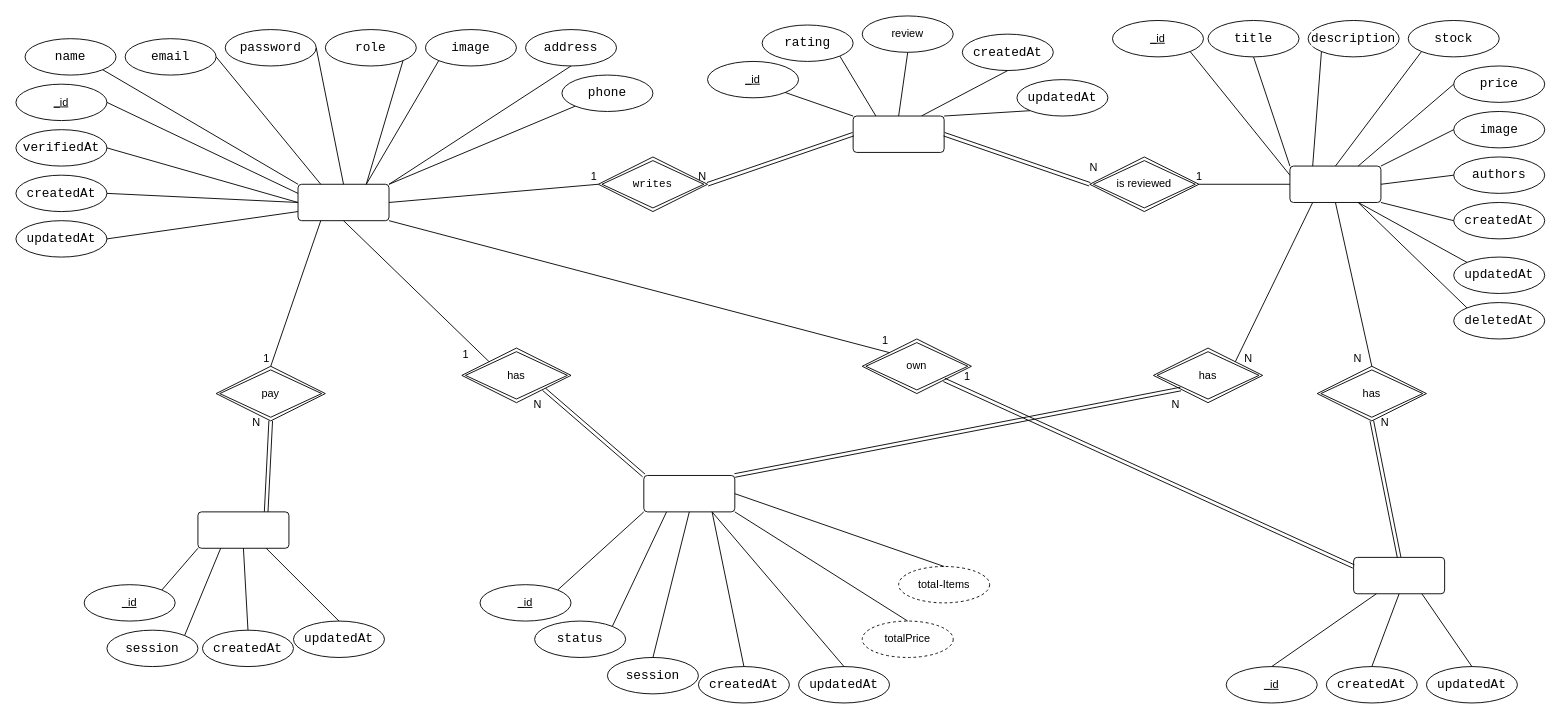
Image size: 1561x719. Some labels were removed from this diagram. Each missing label, with the centre of its shape:
Books: the point at 1335,183
Carts: the point at 1399,575
Orders: the point at 689,493
Payments: the point at 243,529
Reviews: the point at 898,133
Users: the point at 343,202
